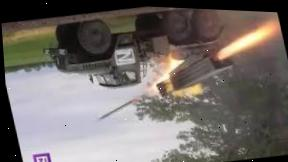rszo: (38, 2, 237, 129)
